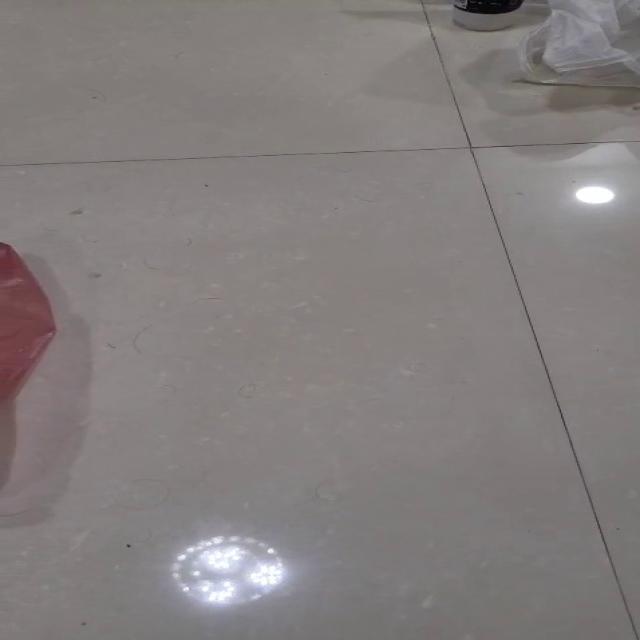plastic: (512, 0, 638, 88)
